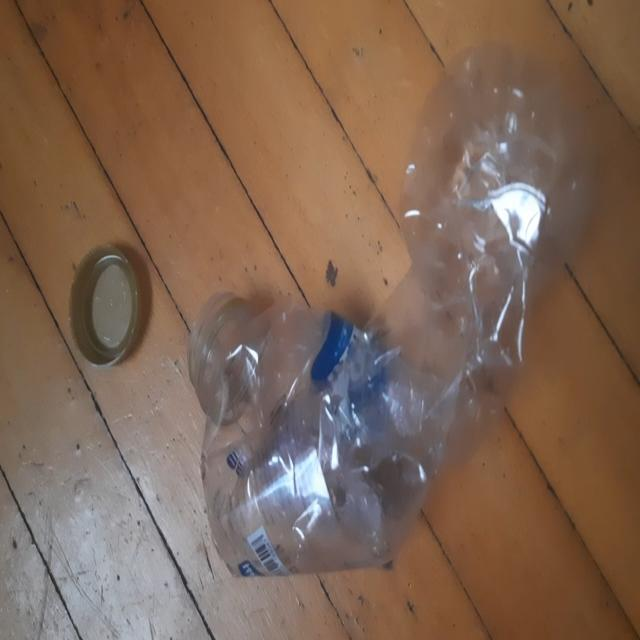Plastic: (191, 40, 594, 579), (68, 246, 152, 371)
